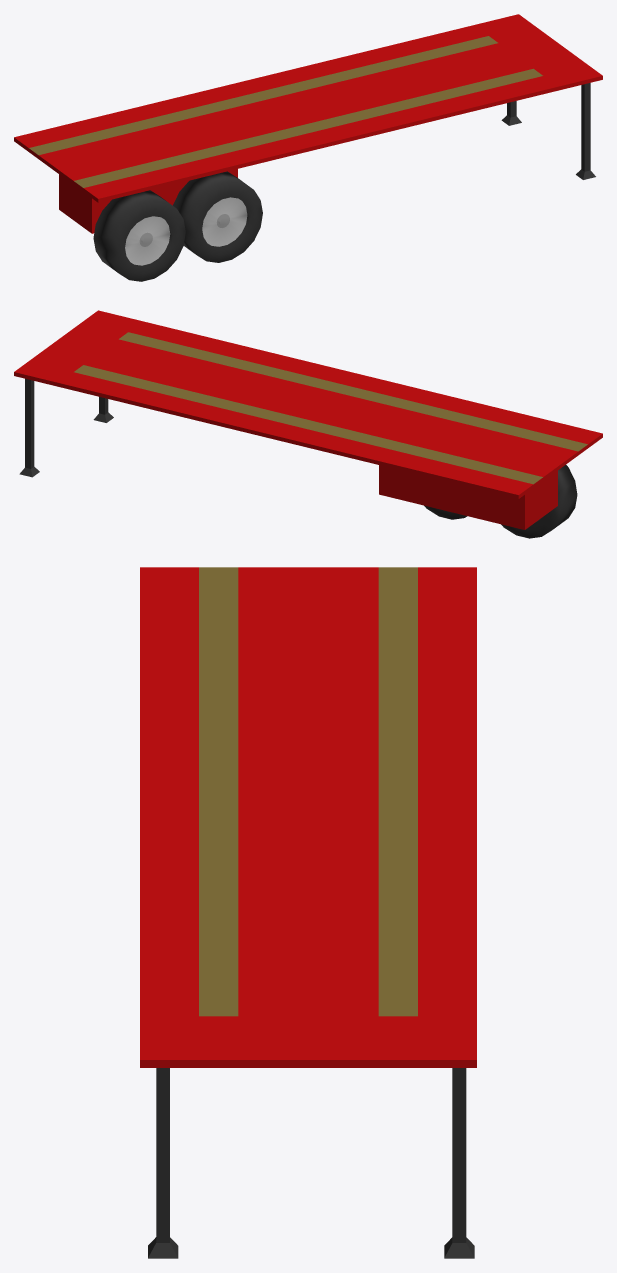
Rendered from trailer.glb.
3 renders of one model, top to bottom at view 1: azimuth 30°, elevation 25°; view 2: azimuth 150°, elevation 25°; view 3: azimuth 270°, elevation 25°, orthographic. The views are drawn at different scales.
Parts seen in each view (by area): view 1: trailer; view 2: trailer; view 3: trailer.
Boxes of the visible parts, left/top/right/bottom form: trailer: left=14, top=14, right=602, bottom=281; trailer: left=14, top=310, right=602, bottom=538; trailer: left=140, top=567, right=476, bottom=1258.
Bounding box in the file's own units: 5.22 × 1 × 1.51.
Materials: 1 (1 with a texture image).
